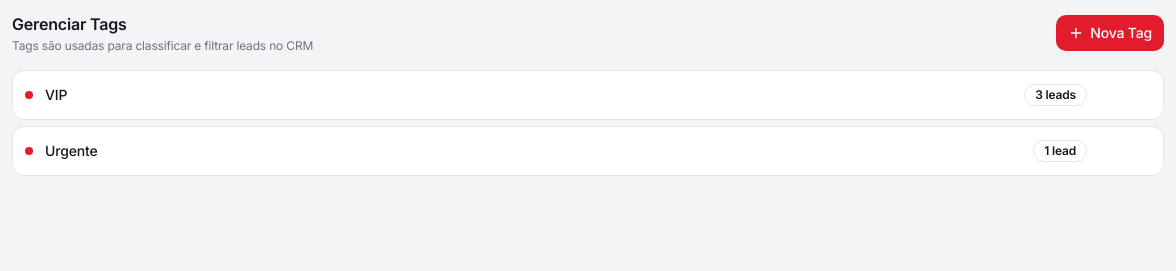
Test: CrmTagsManager — criação de tag › botão 'Nova Tag' exibe formulário de criação
Click the button "Nova Tag": (1110, 33) [1056,15,1164,51]
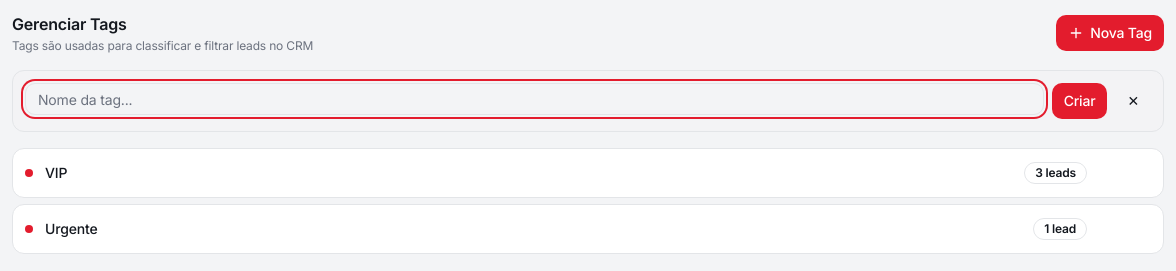
Expected: the field with placeholder "Nome da tag..." is shown, [25,83,1044,115]
